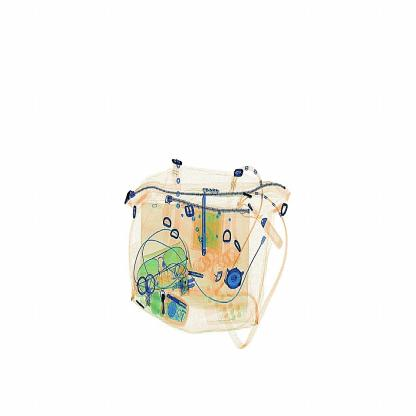pliers: (192, 186, 212, 261)
